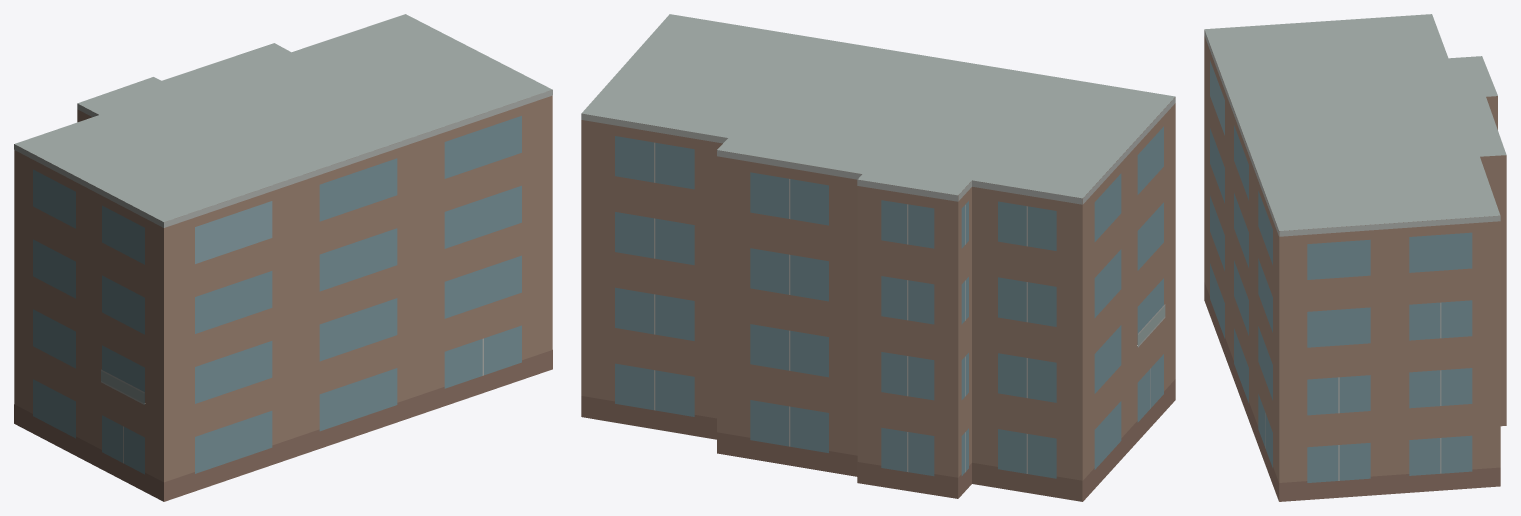
The model's file is survey-upis-33001755.glb.
3 renders of one model, left to right at view 1: azimuth 30°, elevation 25°; view 2: azimuth 150°, elevation 25°; view 3: azimuth 270°, elevation 25°, orthographic. The views are drawn at different scales.
Visible parts, largest first — view 1: survey-upis-33001755.tmp; view 2: survey-upis-33001755.tmp; view 3: survey-upis-33001755.tmp.
Part boxes in pixels (bbox=[...]): survey-upis-33001755.tmp: bbox=[14, 14, 552, 501]; survey-upis-33001755.tmp: bbox=[581, 14, 1175, 501]; survey-upis-33001755.tmp: bbox=[1204, 14, 1506, 501].
Size of the model in its own units: 20.13 by 11.7 by 11.85.
